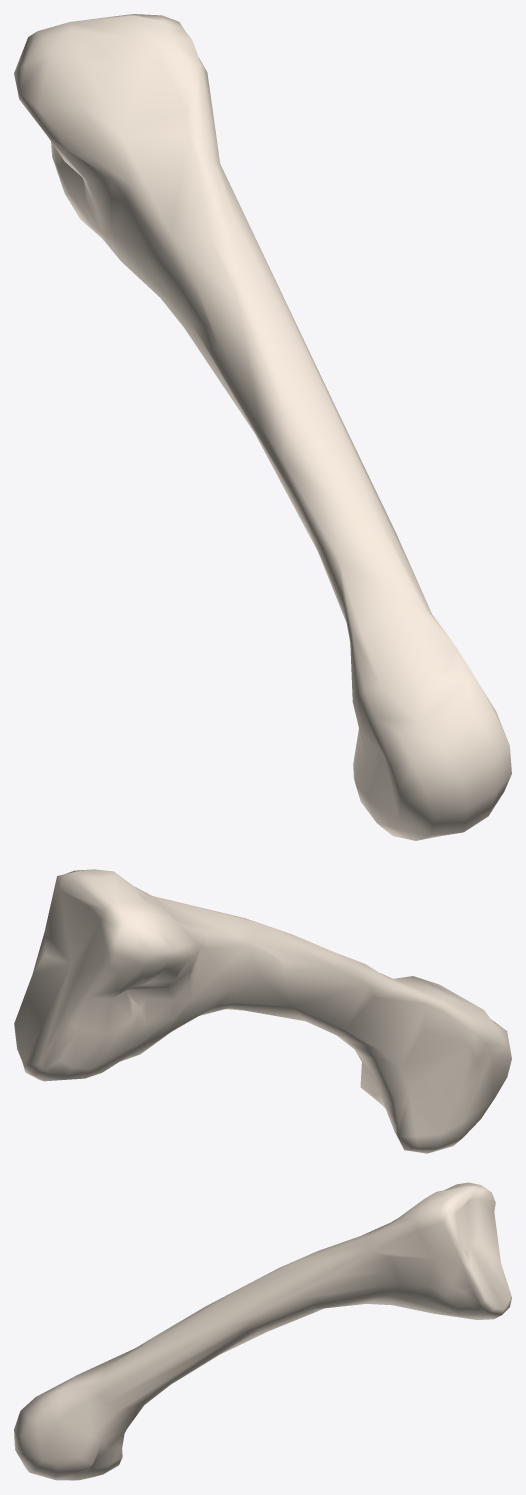
Rendered from right_metatarsal_2.glb.
3 renders of one model, top to bottom at view 1: azimuth 30°, elevation 25°; view 2: azimuth 150°, elevation 25°; view 3: azimuth 270°, elevation 25°, orthographic. The views are drawn at different scales.
Parts seen in each view (by area): view 1: Second metatarsal bone.r; view 2: Second metatarsal bone.r; view 3: Second metatarsal bone.r.
Part boxes in pixels (<box>): Second metatarsal bone.r: <box>14,14,511,840</box>; Second metatarsal bone.r: <box>14,869,511,1153</box>; Second metatarsal bone.r: <box>14,1182,511,1480</box>.
Size of the model in its own units: 0.00977 by 0.029 by 0.0432.
